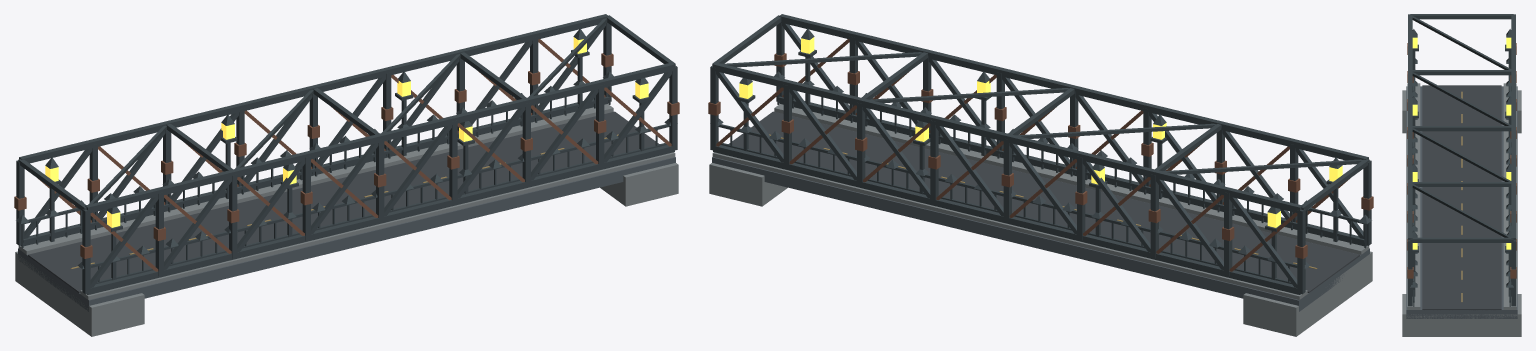
The model's file is bridge_narrows_ironworks.glb.
3 renders of one model, left to right at view 1: azimuth 30°, elevation 25°; view 2: azimuth 150°, elevation 25°; view 3: azimuth 270°, elevation 25°, orthographic. The views are drawn at different scales.
Parts seen in each view (by area): view 1: Bridge_Narrows_Ironworks; view 2: Bridge_Narrows_Ironworks; view 3: Bridge_Narrows_Ironworks.
Boxes of the visible parts, x1,y1,x2,y2 form: Bridge_Narrows_Ironworks: (14,14,679,336); Bridge_Narrows_Ironworks: (708,14,1373,336); Bridge_Narrows_Ironworks: (1402,14,1521,336).
Bounding box in the file's own units: 20.3 × 4.12 × 4.5.
